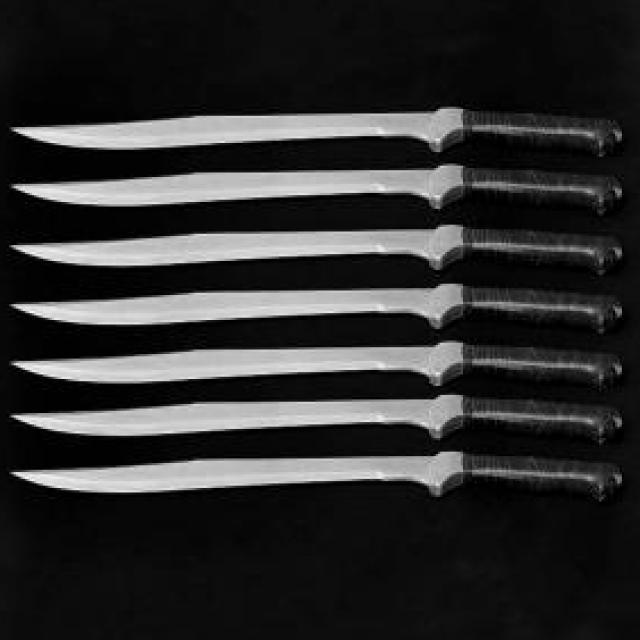knife: (11, 452, 622, 509), (6, 224, 626, 276), (6, 395, 628, 446), (4, 284, 620, 334), (11, 106, 626, 156), (0, 163, 624, 211), (4, 347, 626, 386)
